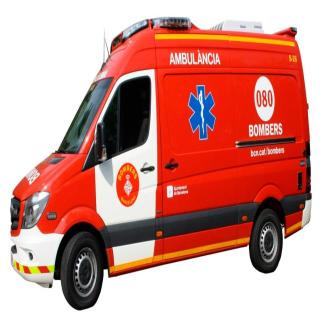Ambulance: (2, 6, 314, 298)
